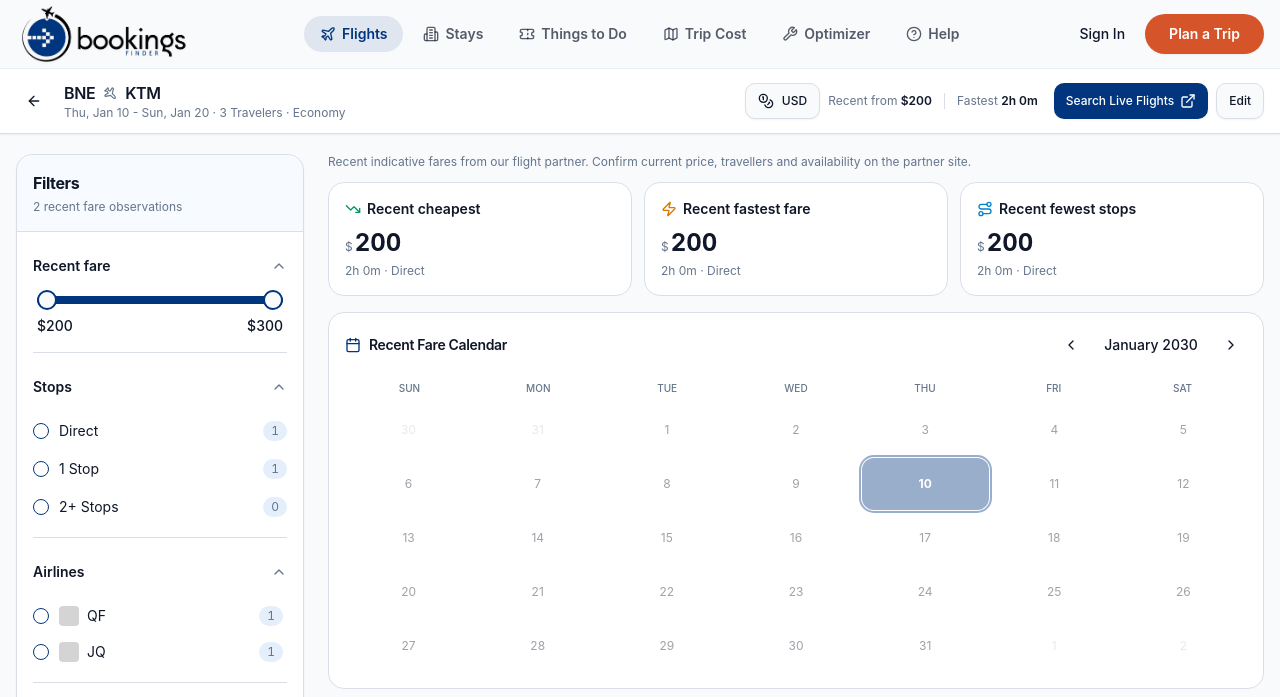
it: FlightResults desktop Edit — write boundary › writes nothing when Edit is opened
The width and height of the screenshot is (1280, 697).
Click the button "Edit" at (1240, 101), box [1216, 83, 1264, 119]
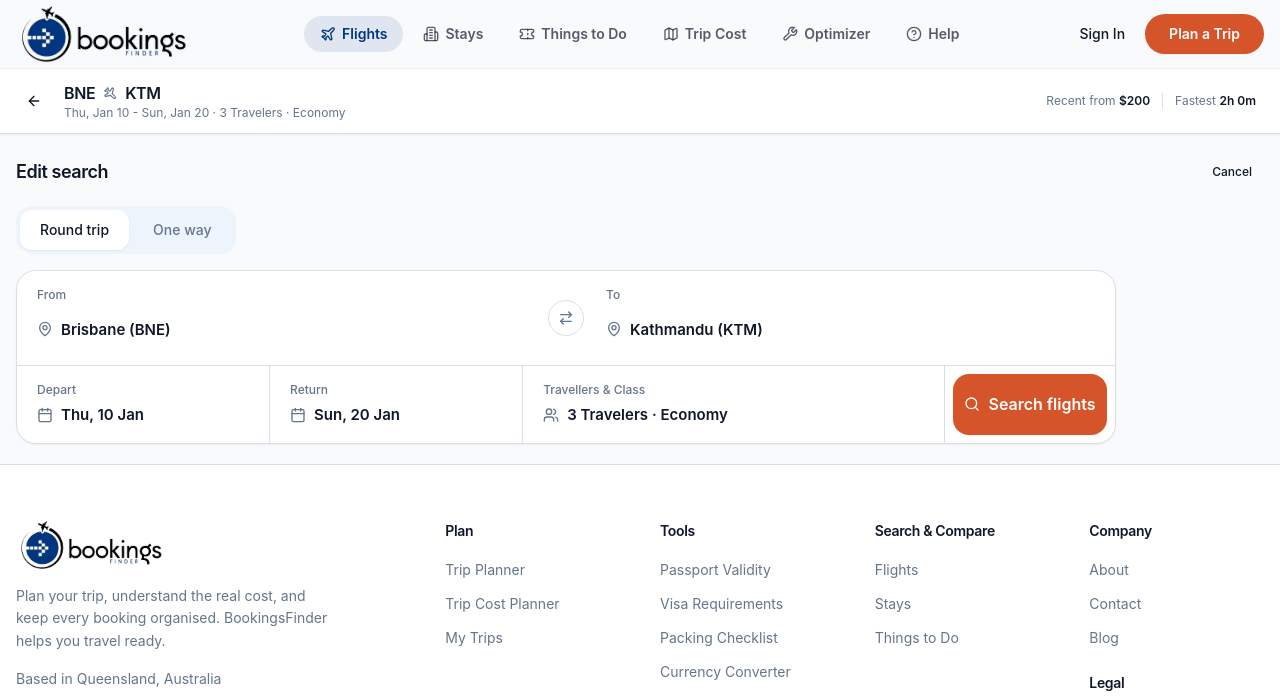
Now the element "Edit search" is shown, box [16, 154, 1264, 444]
